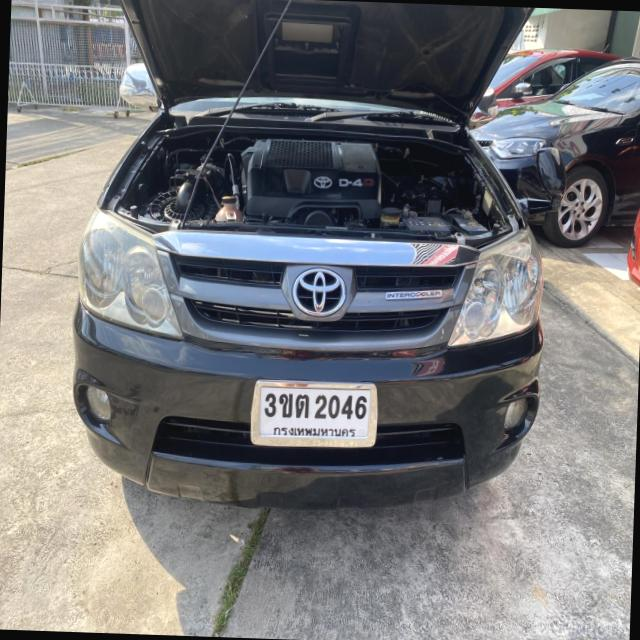license_plate: (249, 379, 378, 454)
